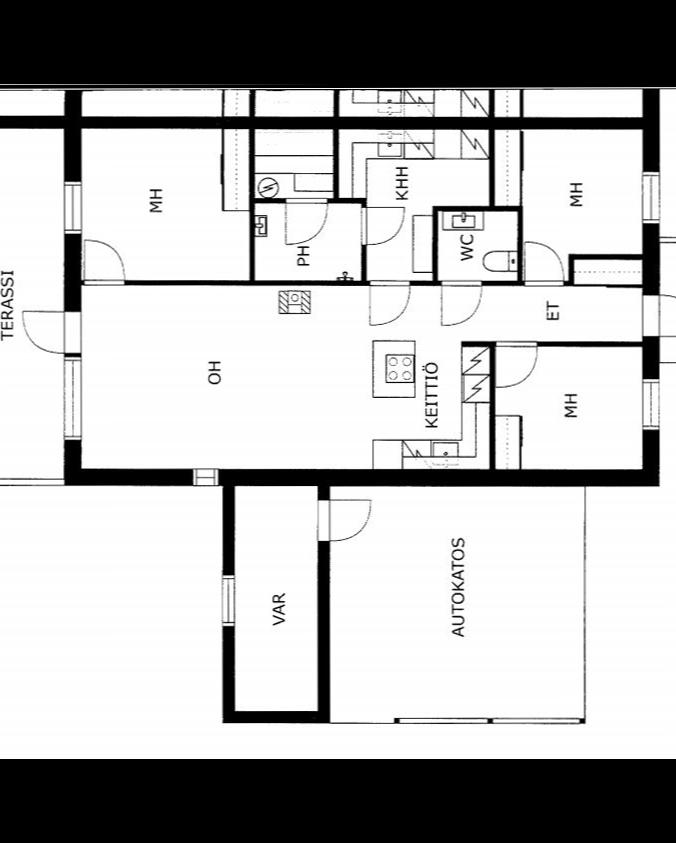bathroom: (437, 210, 517, 280)
door: (16, 306, 87, 358), (312, 494, 380, 546), (518, 237, 570, 289), (80, 234, 128, 290), (491, 338, 537, 396), (282, 194, 332, 247), (362, 275, 412, 328), (434, 277, 480, 329), (357, 205, 409, 248), (639, 292, 676, 340)
perimeter: (60, 116, 663, 726)
window: (56, 354, 84, 444), (634, 371, 666, 437), (636, 160, 664, 232), (58, 174, 84, 241), (218, 564, 239, 634), (186, 462, 223, 491)
